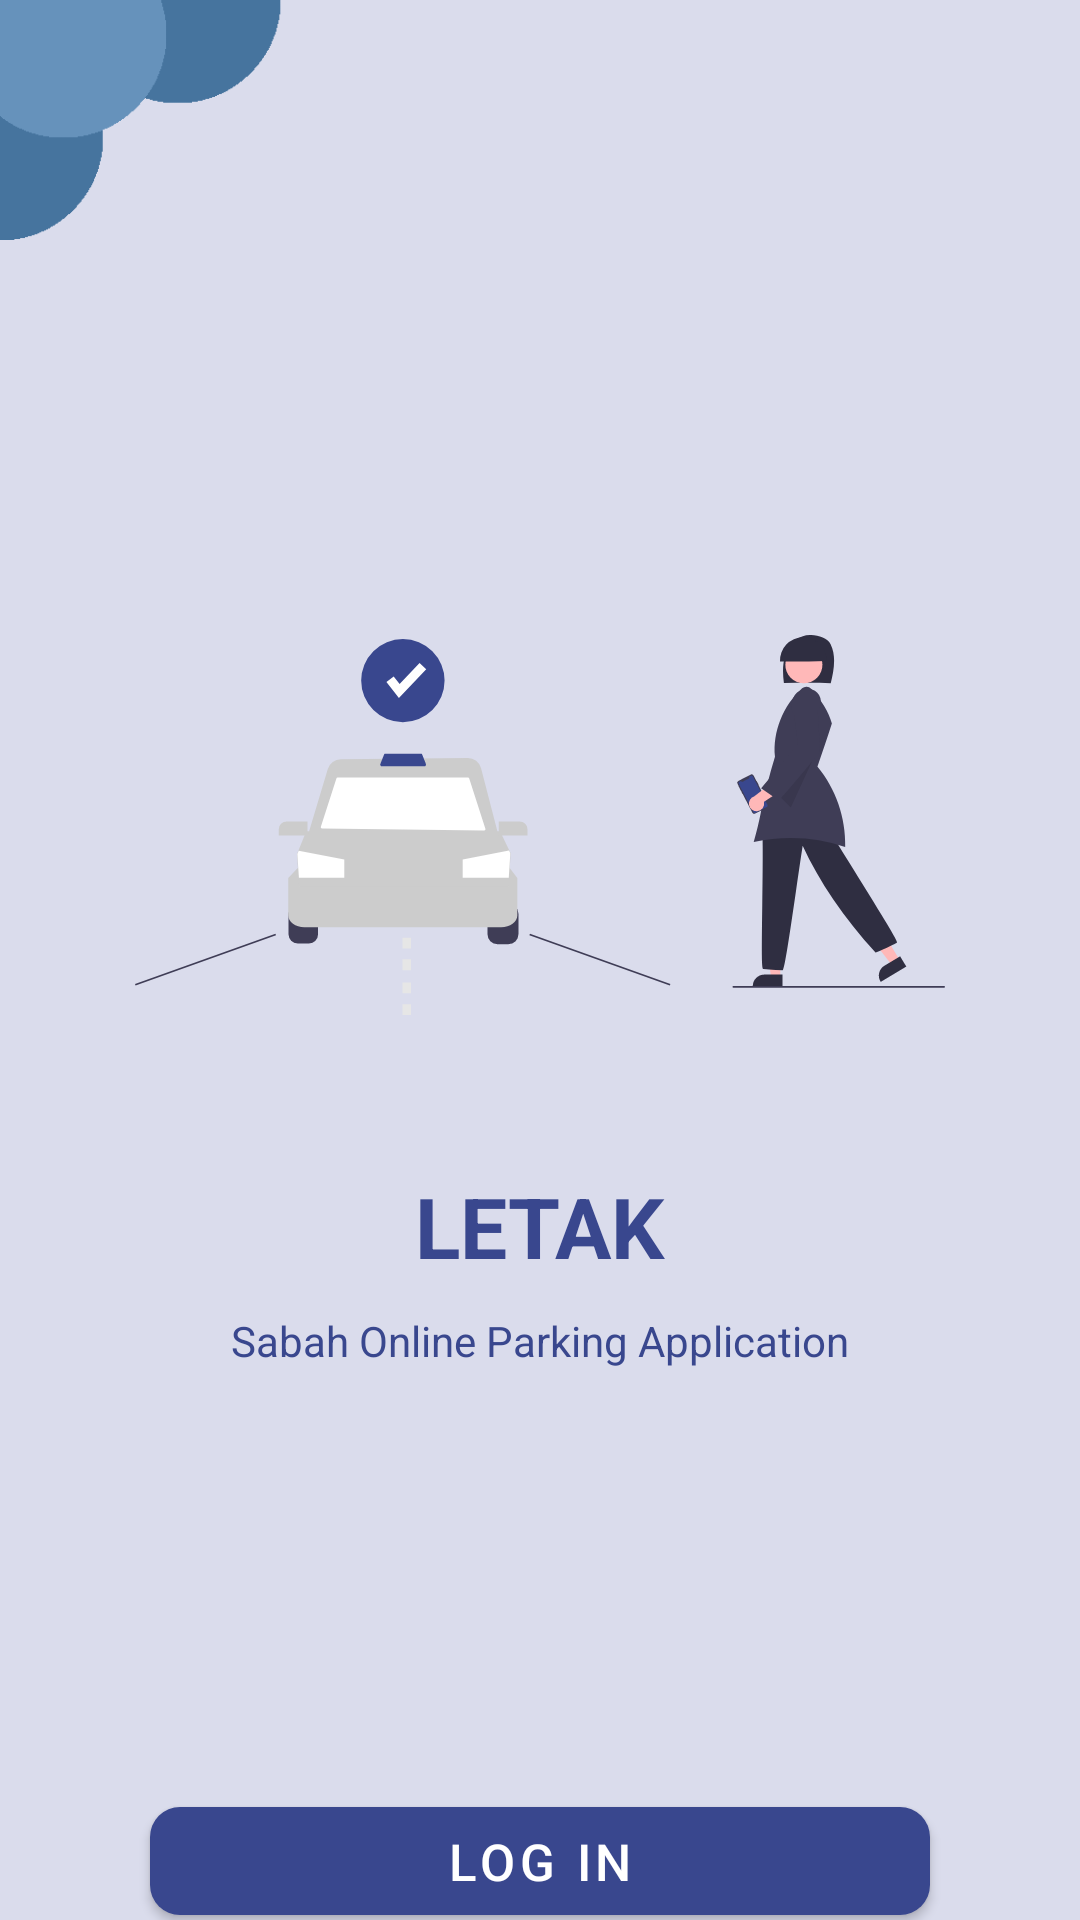

Where icons sit on this 1080w x 1920h app screen, as (x1, y1, x2, y2):
welcome circle: (0, 0, 281, 240)
